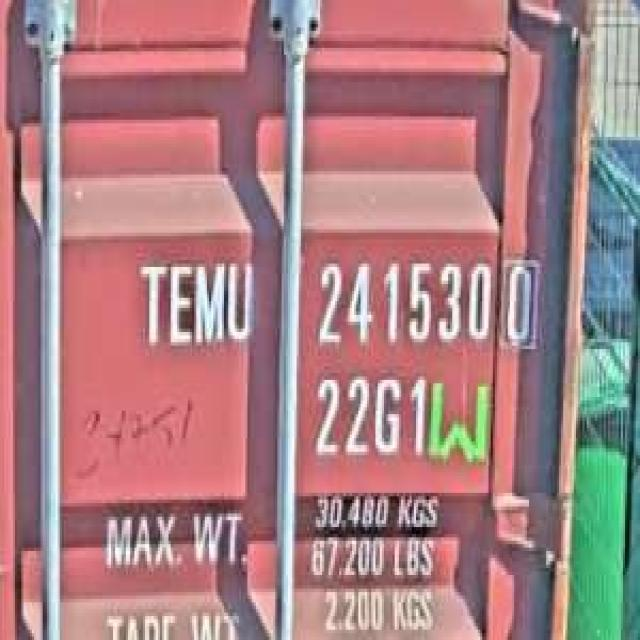dv: (499, 250, 542, 352)
owner: (130, 250, 256, 359)
serial: (307, 246, 493, 356)
size: (308, 365, 430, 468)
